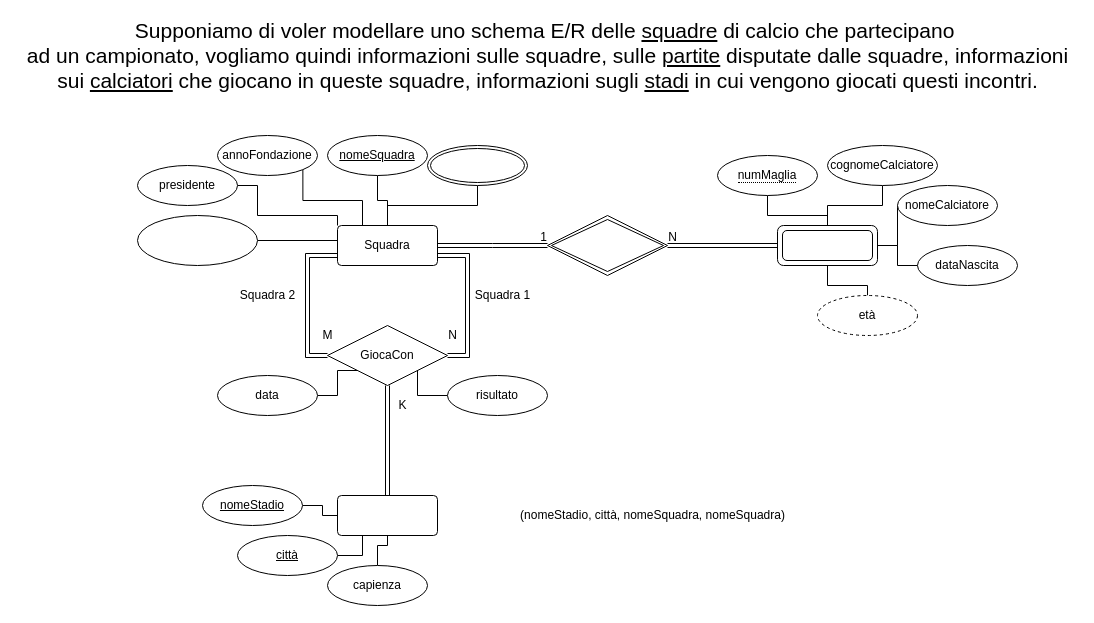
This 1094x623 diagram has some shape labels left out. The centre of each missing label's shape, as x and y in pixels:
"Calciatore" belongs at point (827, 245).
"coloriSquadra" belongs at point (477, 165).
"numCampionatiVinti" belongs at point (197, 240).
"Possiede" belongs at point (607, 245).
"Stadio" belongs at point (387, 515).
